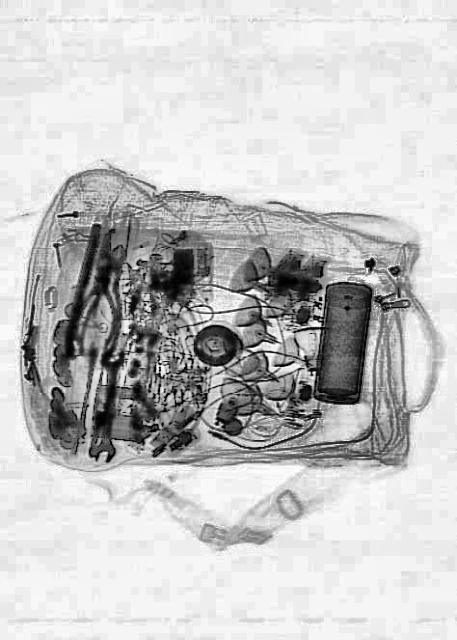Pliers: (67, 234, 137, 366), (70, 226, 128, 364)
Wrench: (90, 346, 127, 462)
